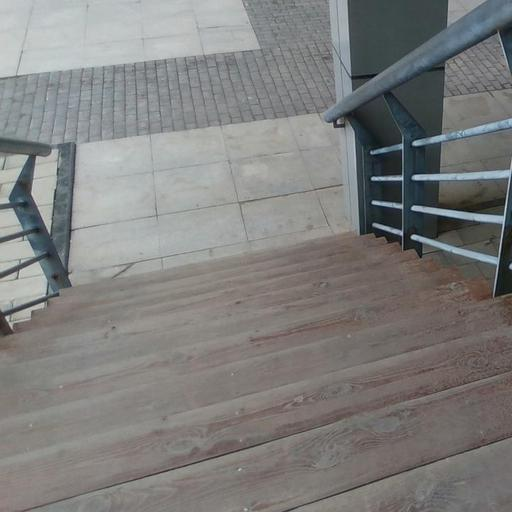stairs: (0, 235, 511, 511)
